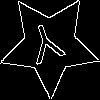Y: (24, 20, 69, 74)
